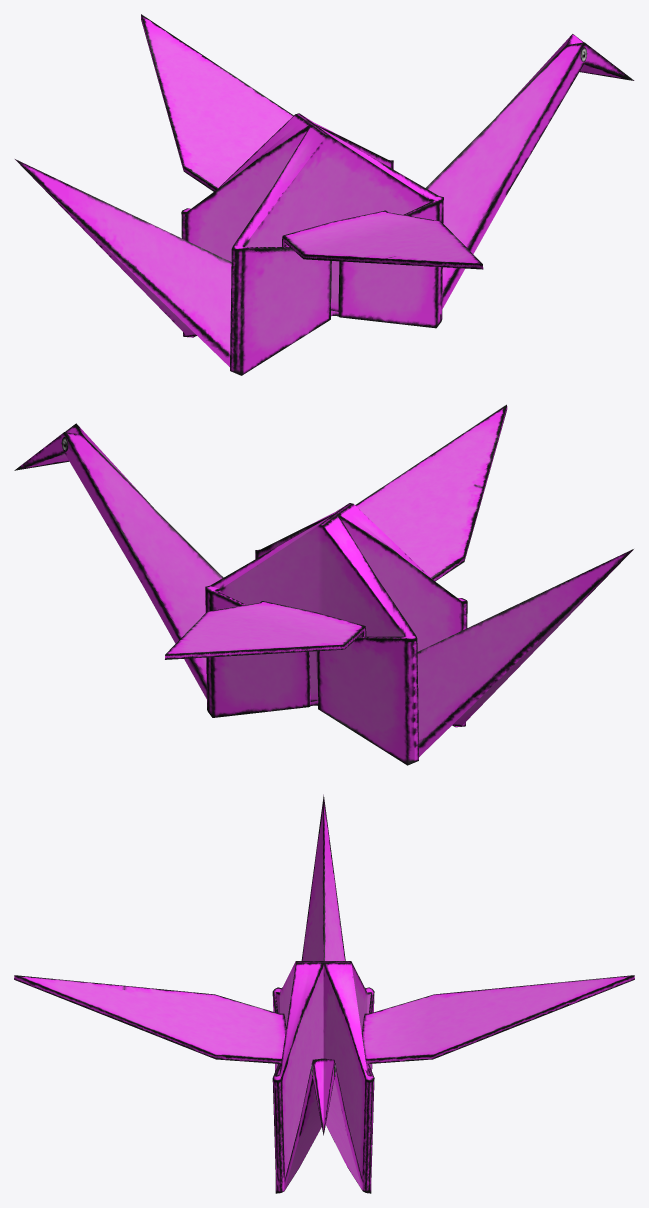
Rendered from crane_origami.fbx.
The picture shows the model from 3 angles, top to bottom: view 1: azimuth 30°, elevation 25°; view 2: azimuth 150°, elevation 25°; view 3: azimuth 270°, elevation 25°; orthographic projection. The views are drawn at different scales.
Visible parts, largest first — view 1: crane; view 2: crane; view 3: crane.
Part boxes in pixels (bbox=[...]): crane: bbox=[15, 14, 634, 375]; crane: bbox=[14, 404, 633, 765]; crane: bbox=[14, 794, 634, 1193].
Size of the model in its own units: 43.99 by 16.73 by 42.02.
